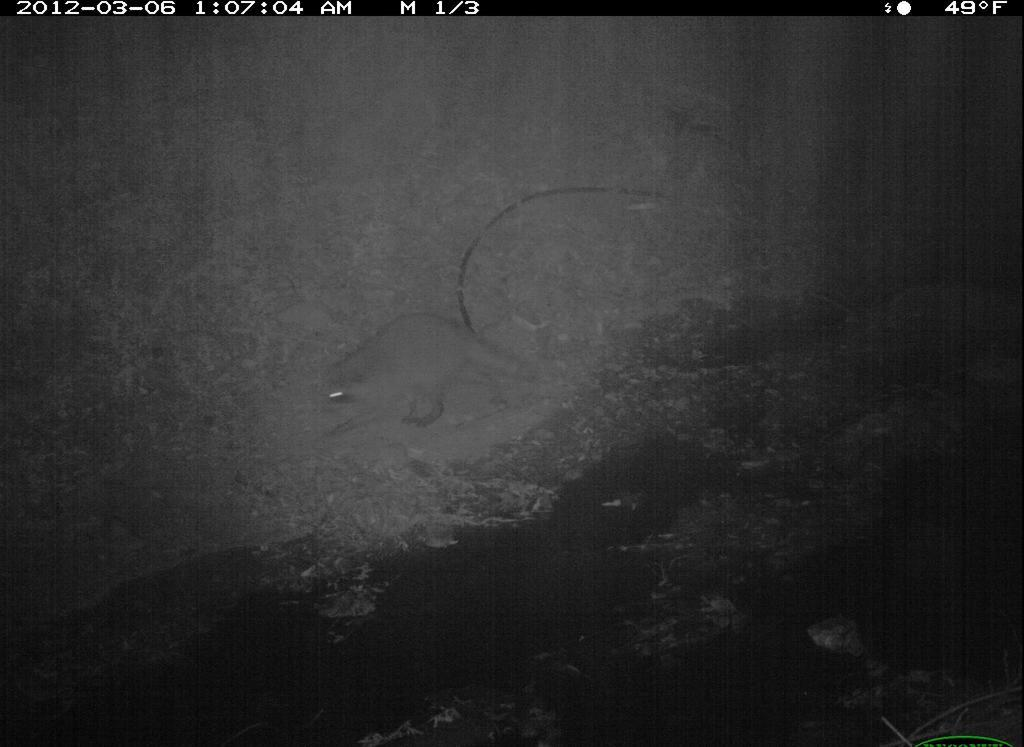raccoon: (308, 305, 552, 450)
